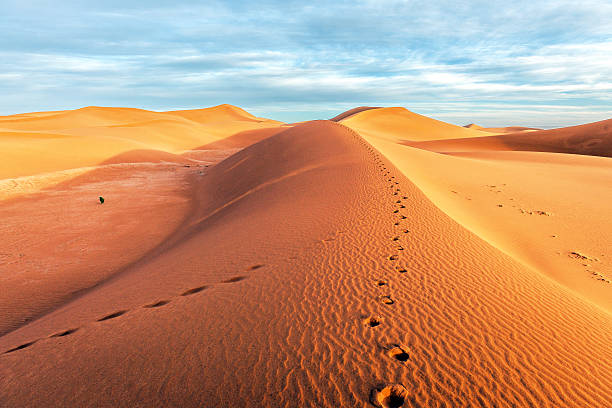animal_foot_print: (335, 120, 418, 202), (370, 383, 407, 407), (4, 340, 36, 353), (387, 344, 408, 361), (97, 310, 126, 321), (180, 285, 207, 295), (49, 328, 78, 337), (364, 316, 381, 327), (143, 300, 169, 307), (222, 276, 245, 282), (379, 295, 394, 304), (248, 264, 264, 269), (376, 279, 387, 286), (388, 254, 398, 260), (394, 236, 398, 240), (401, 215, 406, 218), (394, 222, 398, 225)
